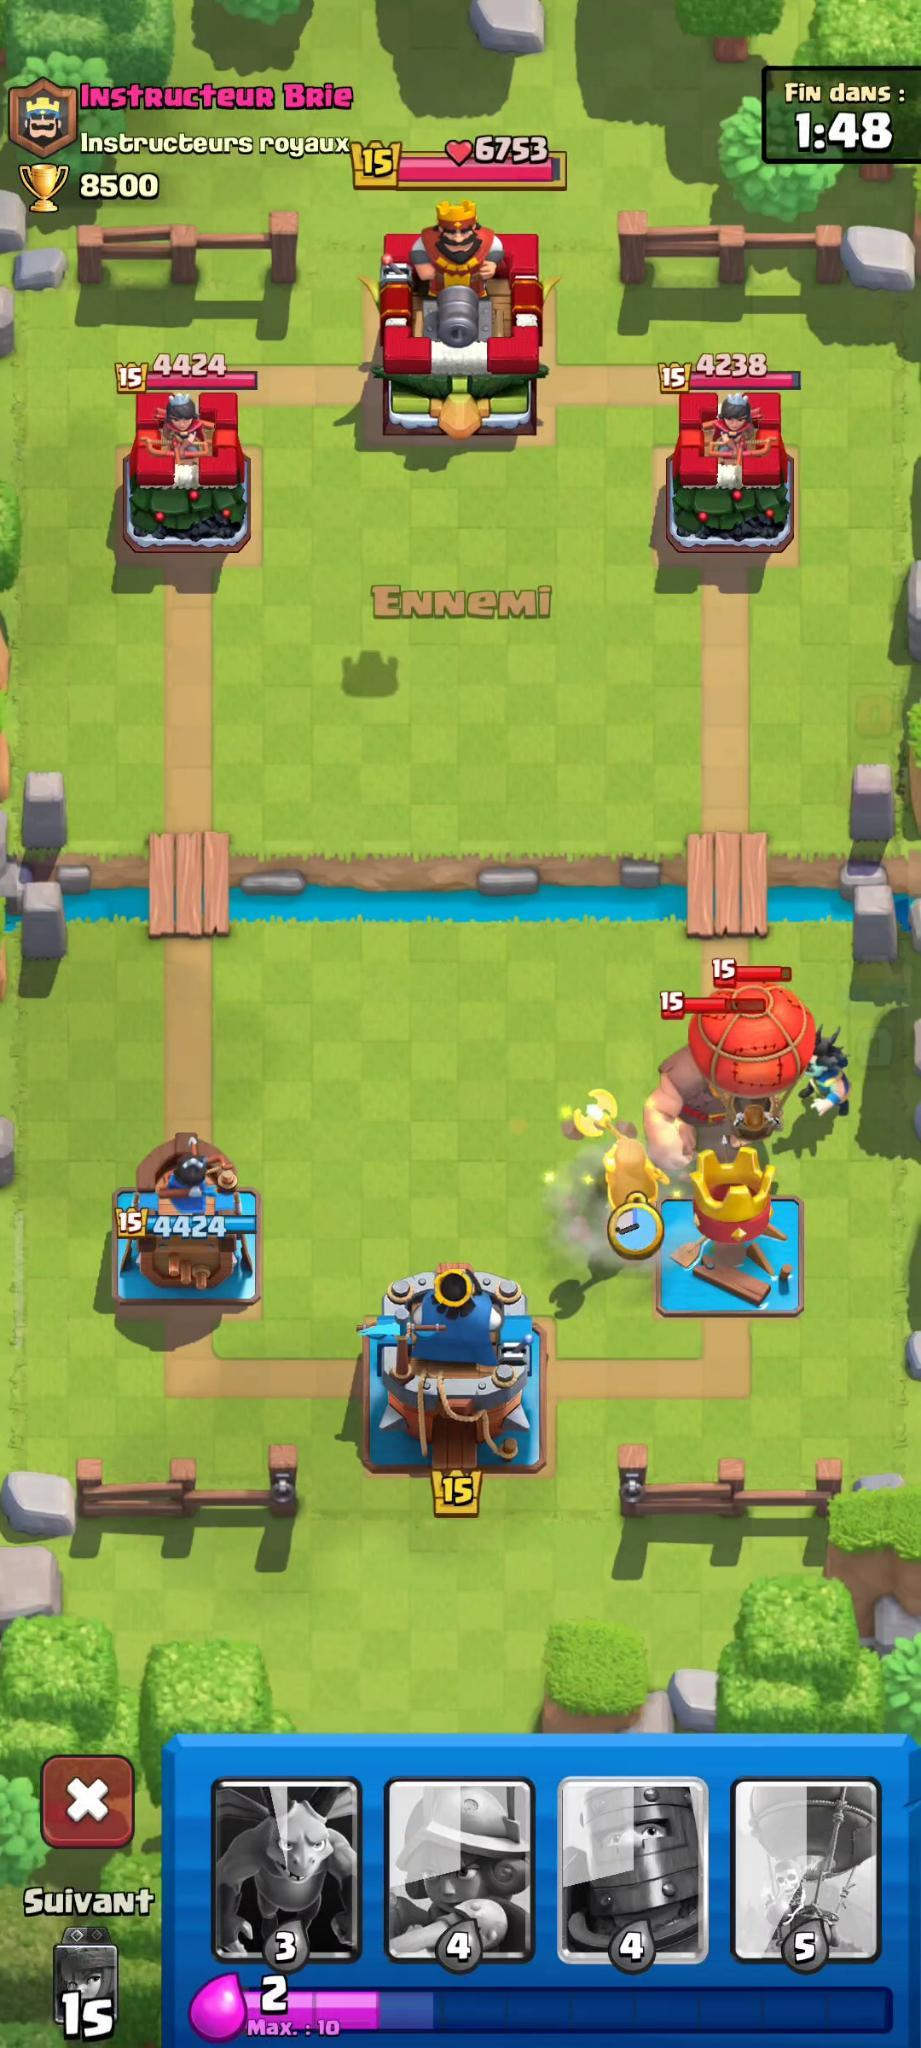enemy_balloon: (686, 935, 820, 1144)
enemy_giant: (636, 1027, 796, 1186)
player_electro_wizard: (794, 1038, 858, 1123)
